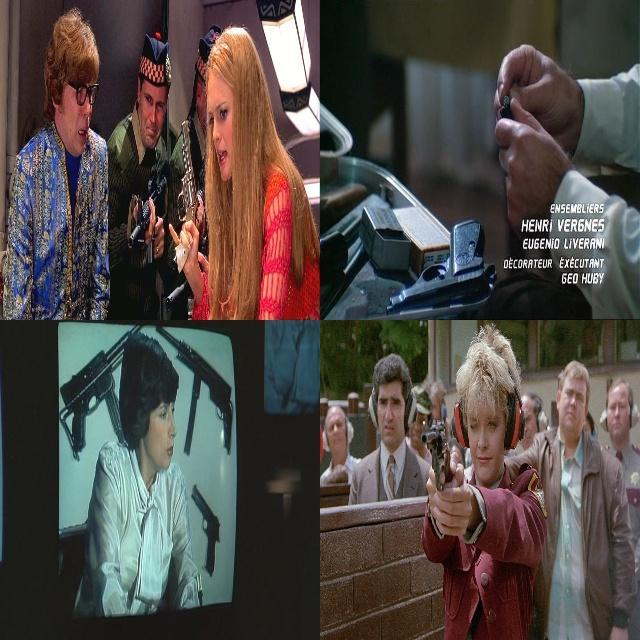gun-knife-thesis - v11 Yolov5 augmented: (63, 319, 148, 459), (379, 216, 496, 316), (151, 323, 231, 458), (124, 144, 170, 276), (172, 113, 207, 281), (186, 479, 221, 578), (419, 412, 455, 506)
